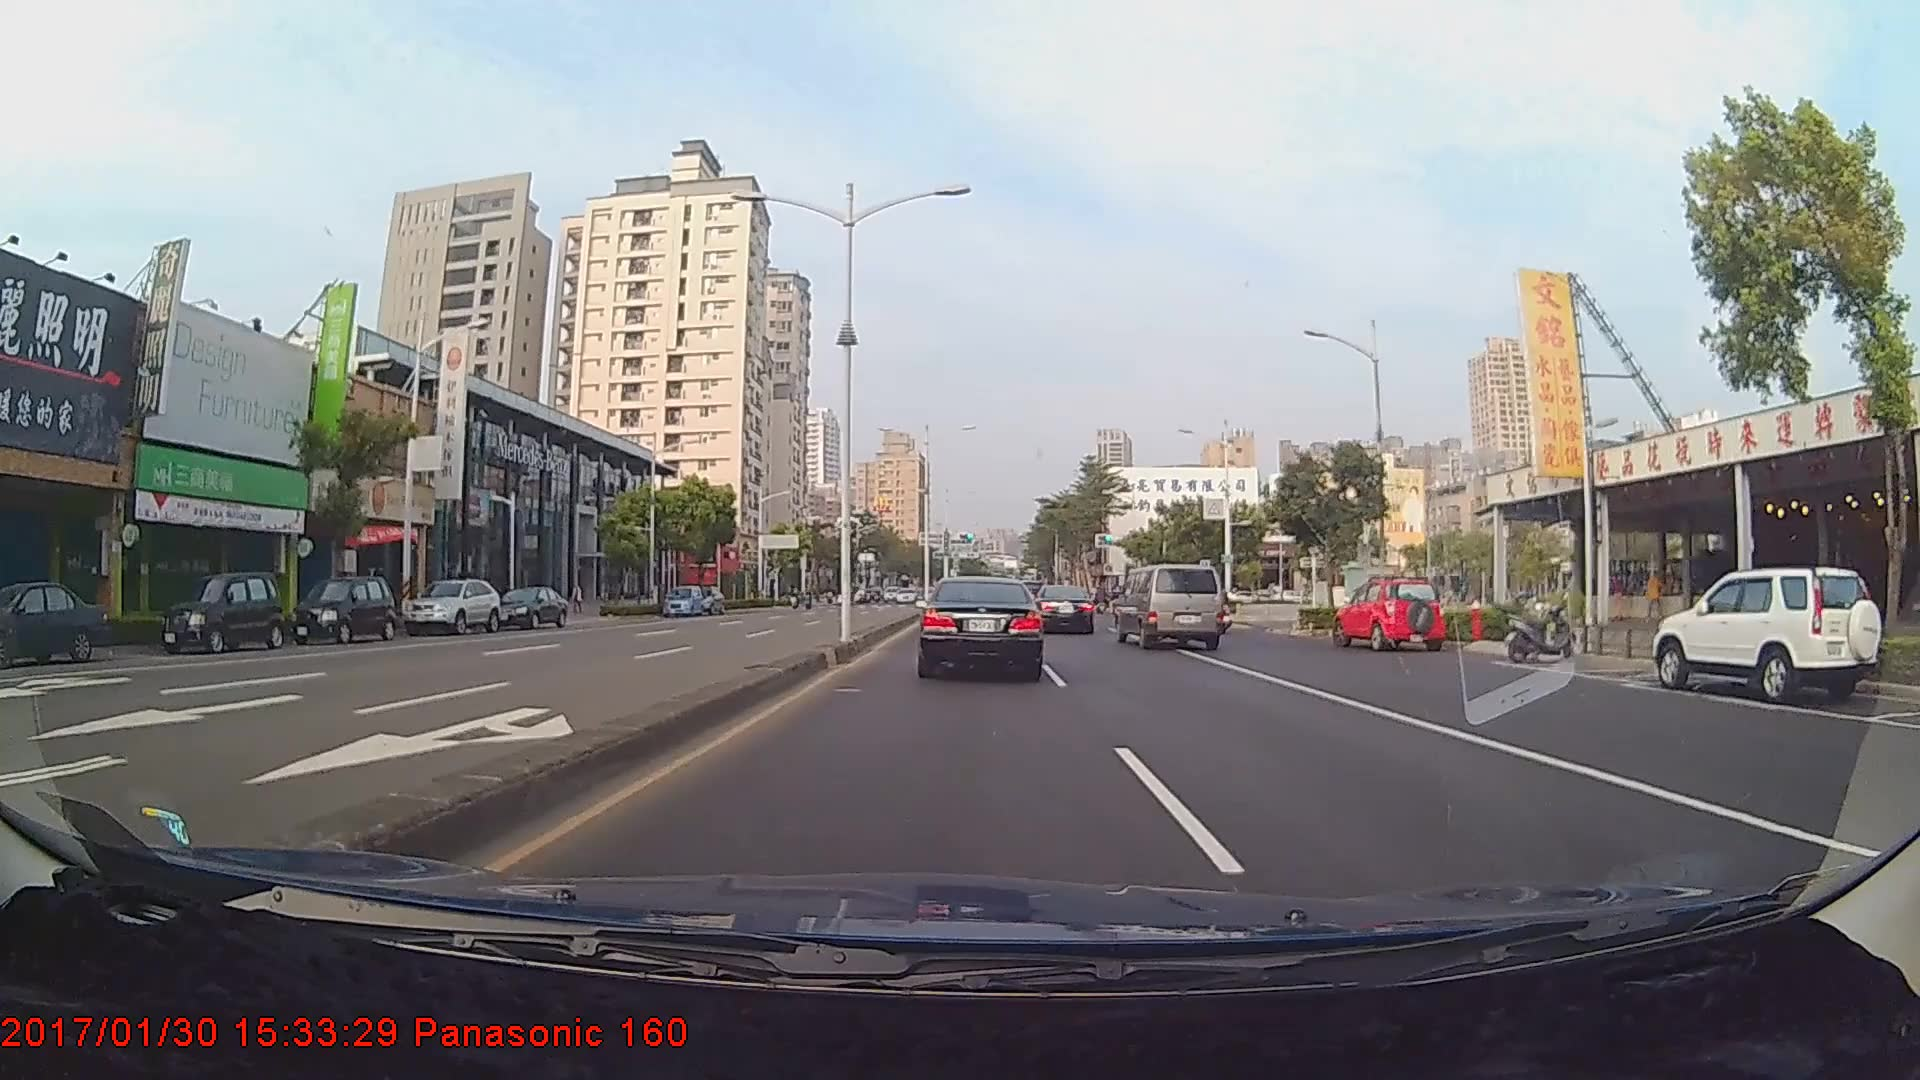vehicle: (1654, 563, 1876, 703), (915, 575, 1044, 679), (156, 572, 284, 655), (1114, 562, 1224, 650), (0, 582, 109, 667), (1336, 575, 1444, 654), (287, 572, 397, 645), (404, 578, 502, 637), (1031, 583, 1096, 636), (495, 585, 567, 632), (659, 588, 704, 618)
